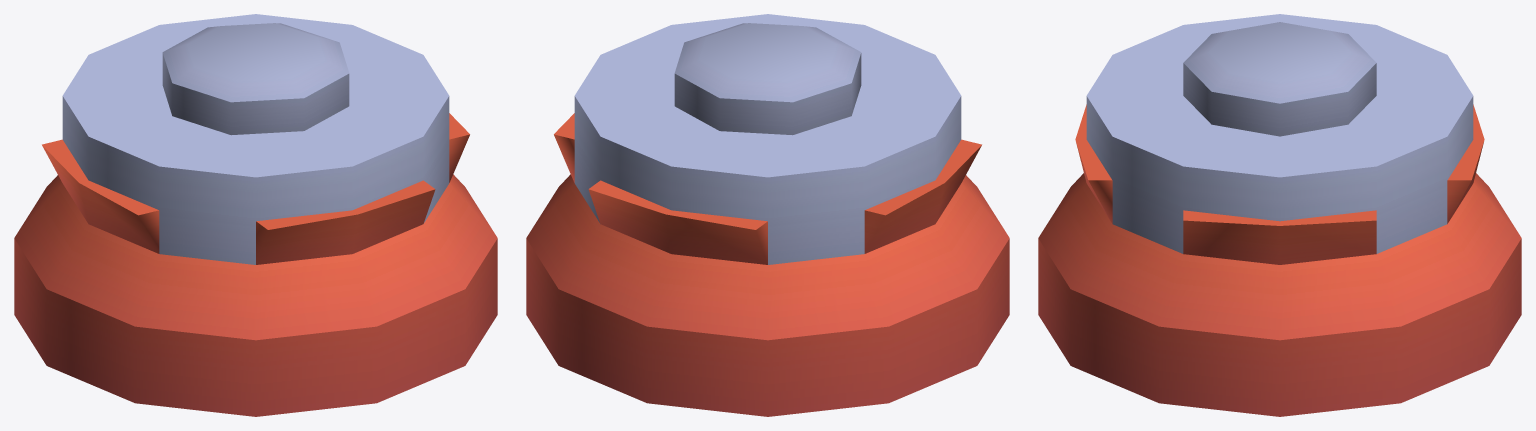
The model's file is tower-round-bottom-c.glb.
The picture shows the model from 3 angles, left to right: view 1: azimuth 30°, elevation 25°; view 2: azimuth 150°, elevation 25°; view 3: azimuth 270°, elevation 25°; orthographic projection.
Parts seen in each view (by area): view 1: tower-round-bottom-c; view 2: tower-round-bottom-c; view 3: tower-round-bottom-c.
Part boxes in pixels (x1,y1,x2,y2): tower-round-bottom-c: (14, 14, 497, 416); tower-round-bottom-c: (526, 14, 1009, 416); tower-round-bottom-c: (1038, 14, 1521, 416).
Size of the model in its own units: 1 by 0.6001 by 1.
1 material, 1 textured.
